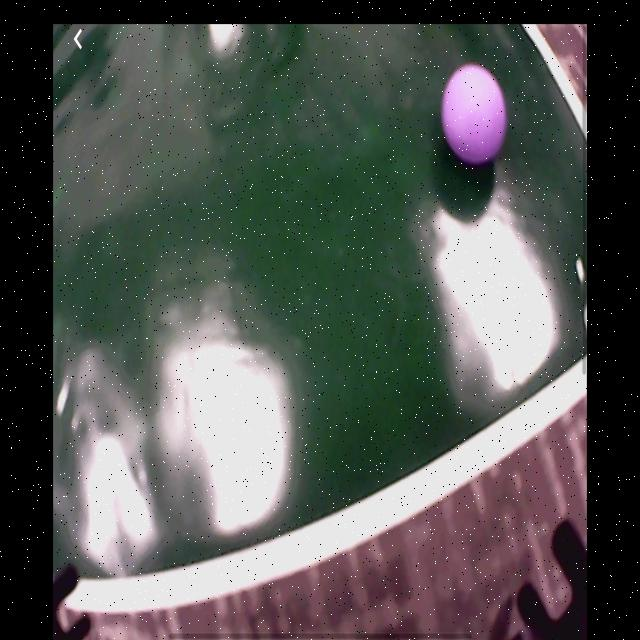ball: (441, 64, 505, 160)
